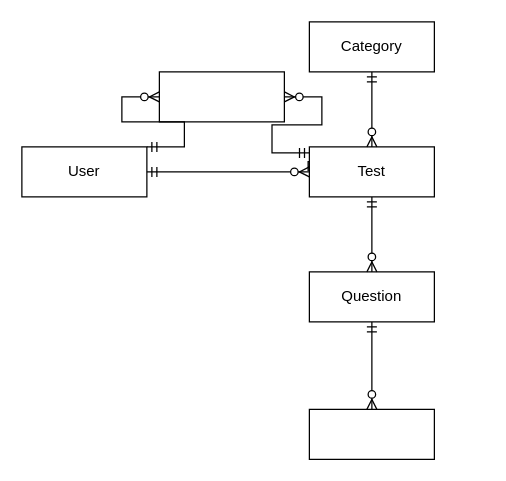
Some shapes in this 506 by 481 pixel diagram are drawn without their labels. The shapes that lost their labels are listed below. From the top down, each one's centre as x and y in pixels, then its label:
At pixel 221 96: "PassTest".
At pixel 371 433: "Answer".
